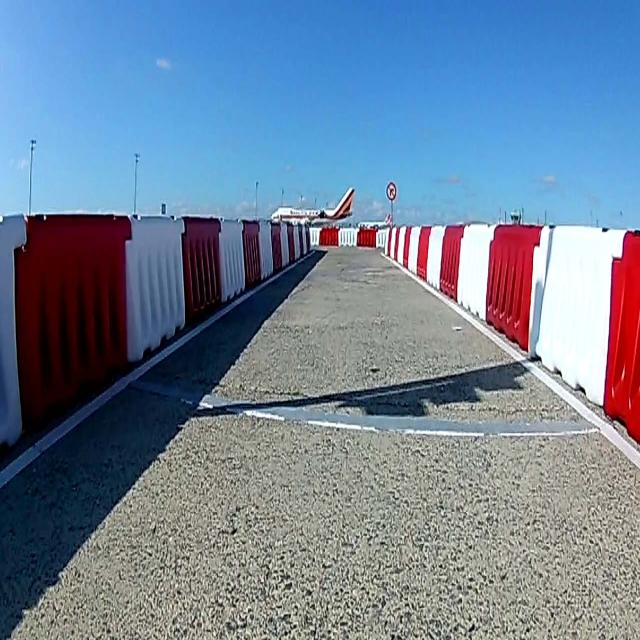sagadonulmez: (385, 181, 397, 202)
